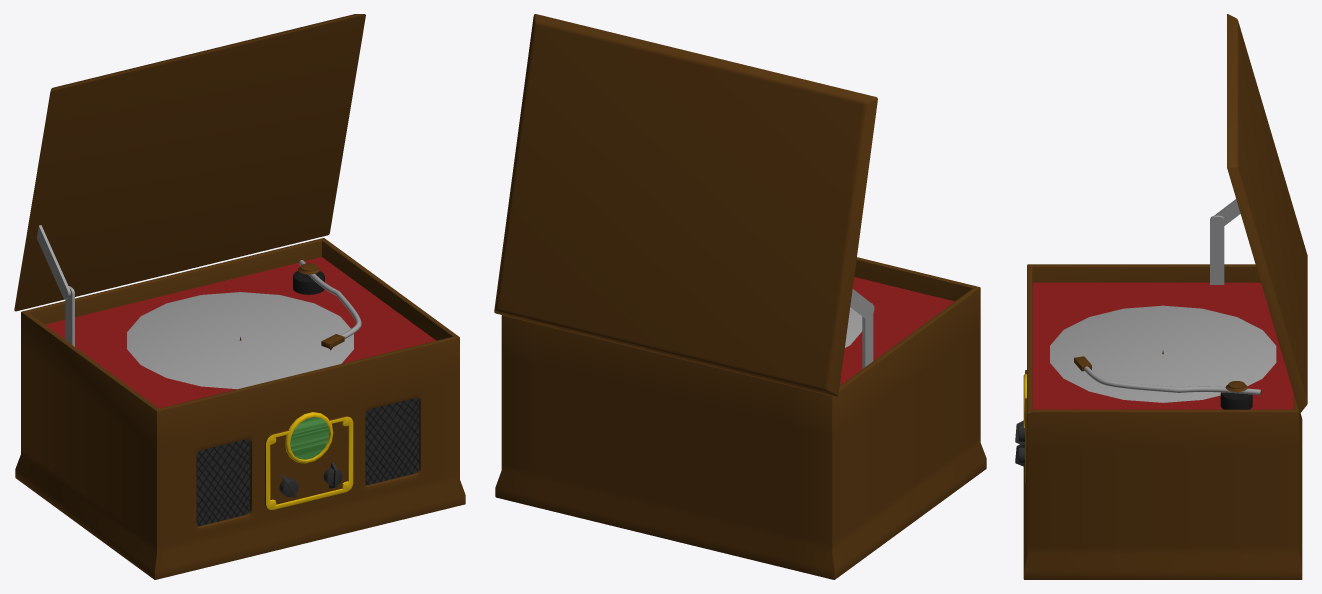
File: RecordPlayer_Nice_3.FBX
3 renders of one model, left to right at view 1: azimuth 30°, elevation 25°; view 2: azimuth 150°, elevation 25°; view 3: azimuth 270°, elevation 25°, orthographic. The views are drawn at different scales.
Parts seen in each view (by area): view 1: Plane002; view 2: Plane002; view 3: Plane002.
Boxes of the visible parts, bbox=[...] form: Plane002: bbox=[14, 14, 465, 579]; Plane002: bbox=[494, 14, 986, 579]; Plane002: bbox=[1015, 14, 1307, 579].
Size of the model in its own units: 18.7 by 23.56 by 15.07.
